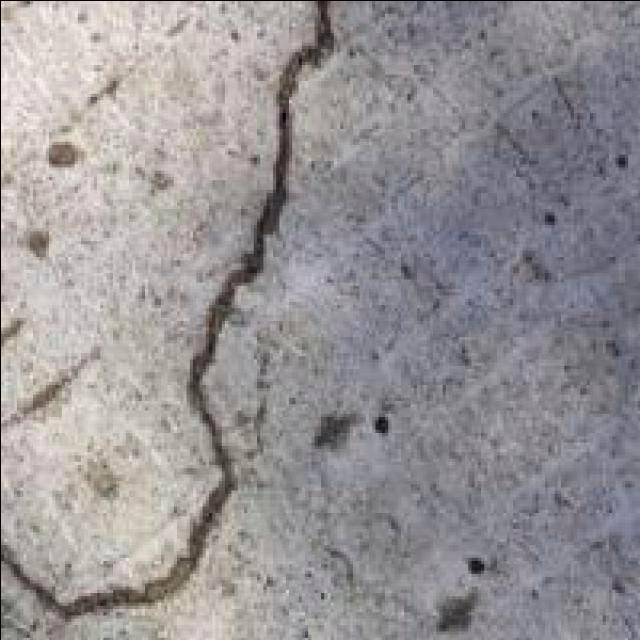SurfaceCrack: (10, 2, 352, 640)
